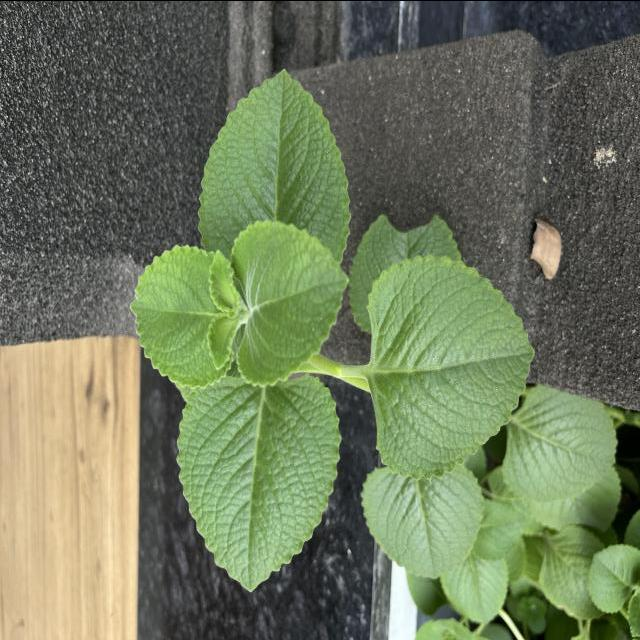Plectranthus barbatus: (364, 252, 538, 481), (174, 372, 343, 593), (196, 66, 352, 253), (228, 218, 352, 387), (129, 241, 236, 389), (360, 461, 484, 579), (501, 380, 619, 502), (587, 542, 640, 614)
